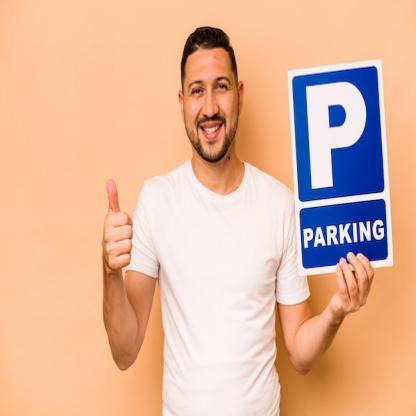thumb_up: (98, 176, 134, 274)
